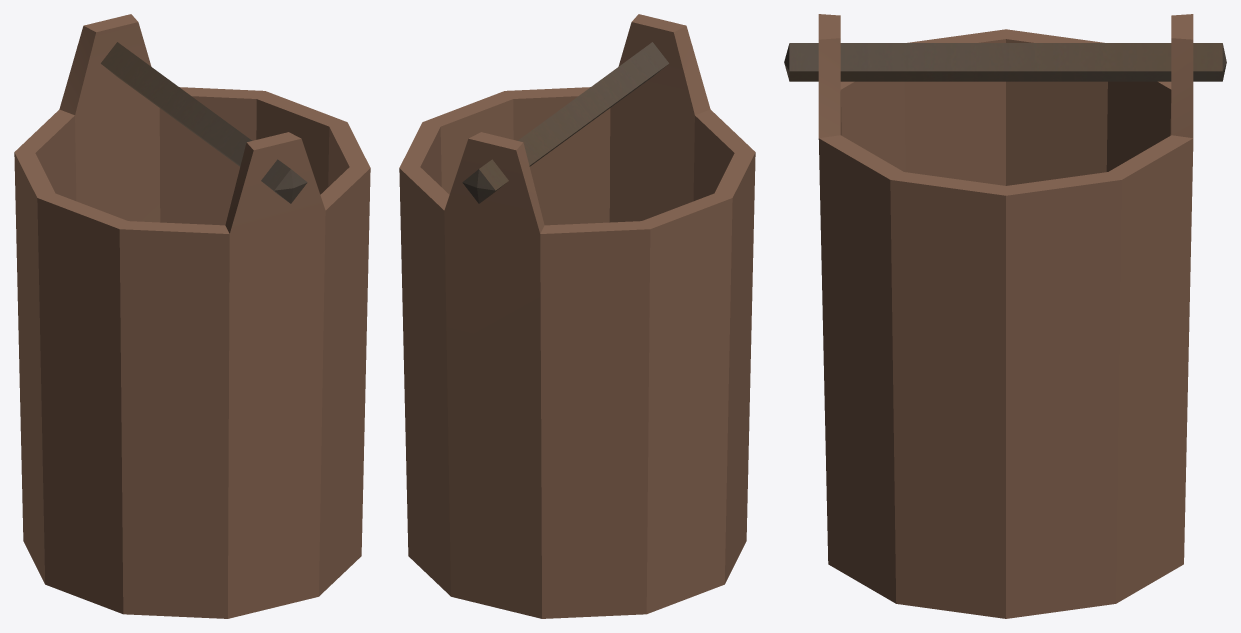
The model's file is Bucket.fbx.
3 renders of one model, left to right at view 1: azimuth 30°, elevation 25°; view 2: azimuth 150°, elevation 25°; view 3: azimuth 270°, elevation 25°, orthographic. The views are drawn at different scales.
Parts seen in each view (by area): view 1: polySurface1500; view 2: polySurface1500; view 3: polySurface1500.
Part boxes in pixels (x1=…): polySurface1500: x1=14, y1=14, x2=370, y2=618; polySurface1500: x1=399, y1=14, x2=755, y2=618; polySurface1500: x1=784, y1=14, x2=1226, y2=618.
Size of the model in its own units: 50 by 71.86 by 56.2.
